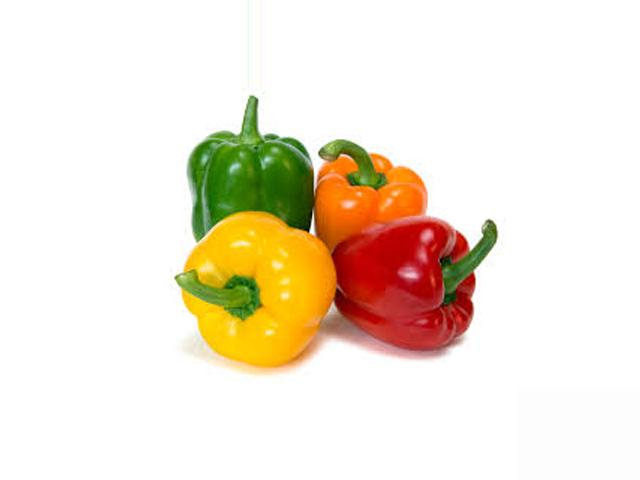bell_pepper: (164, 211, 341, 373)
